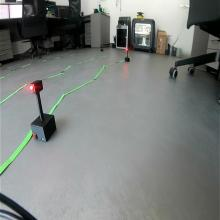red: (29, 79, 42, 95)
